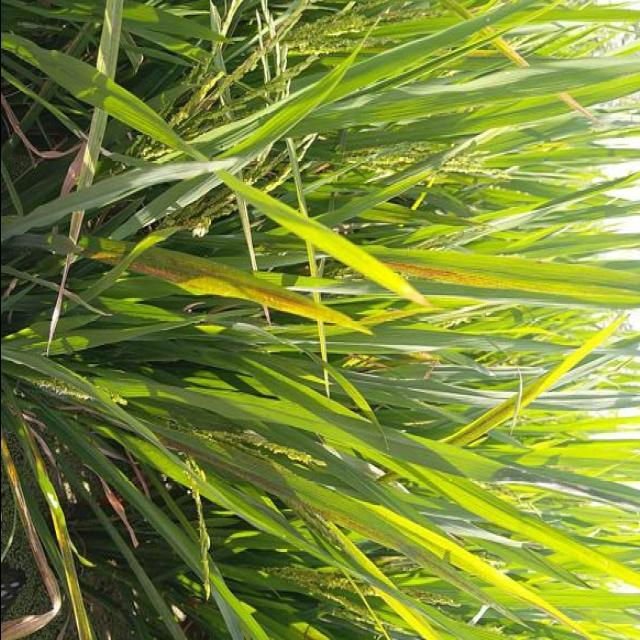Leaf Streak: (159, 437, 411, 552), (129, 248, 368, 335), (382, 258, 640, 308)
